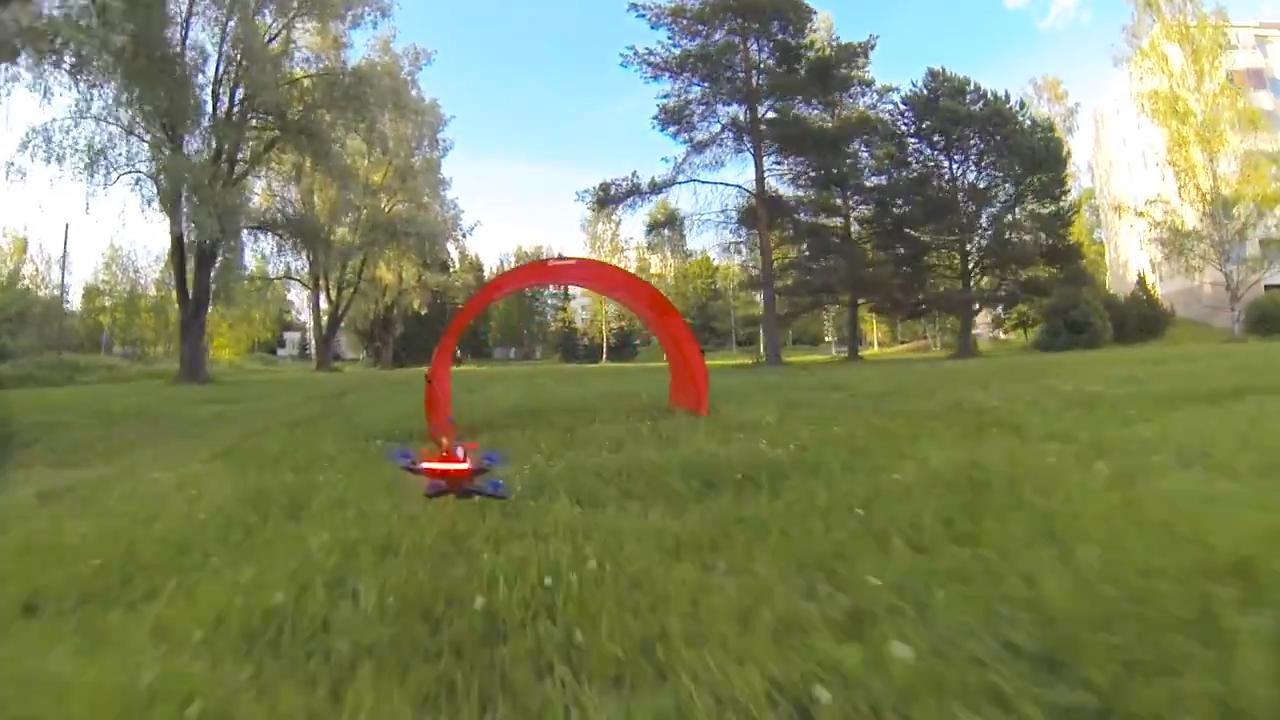gate: (429, 254, 717, 435)
